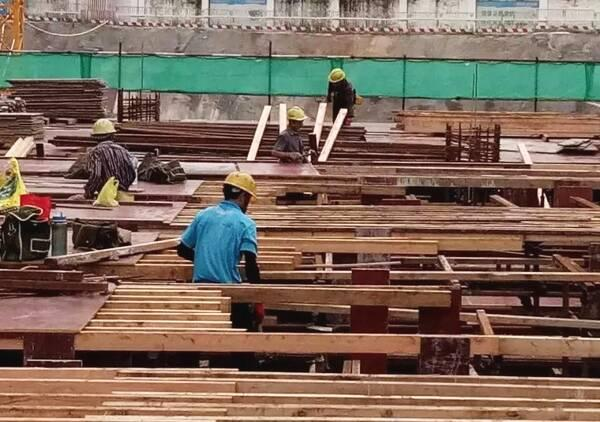helmet: (225, 171, 258, 198), (93, 120, 121, 136), (287, 108, 307, 123), (331, 69, 347, 85)
